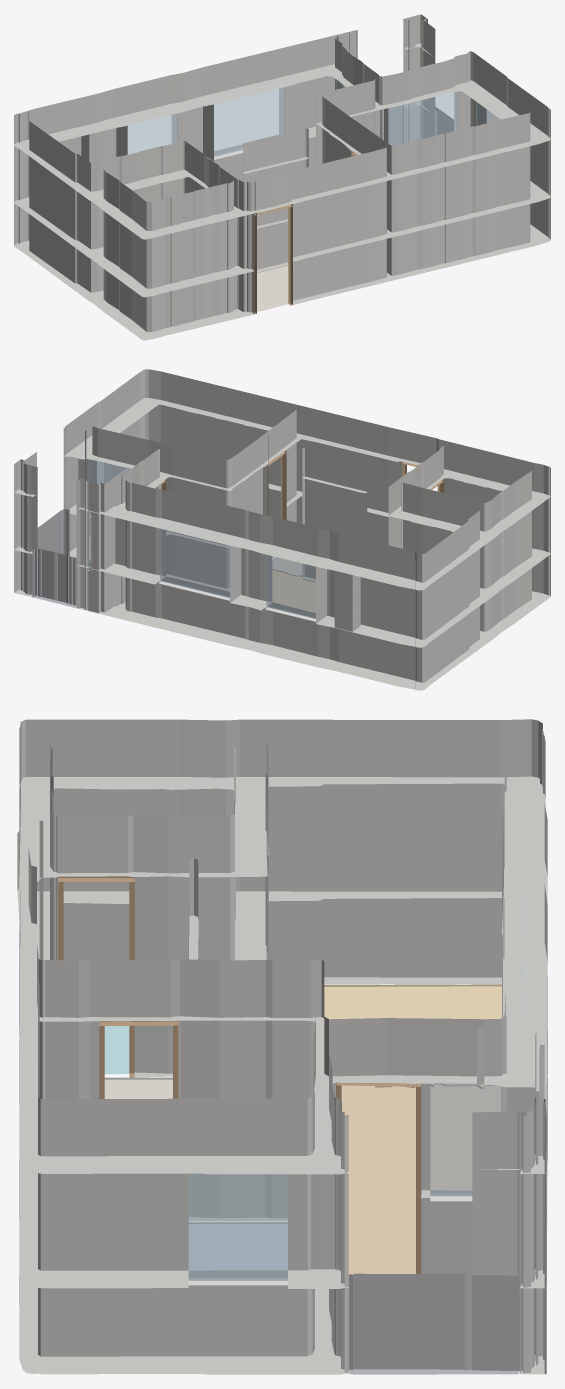
The picture shows the model from 3 angles, top to bottom: view 1: azimuth 30°, elevation 25°; view 2: azimuth 150°, elevation 25°; view 3: azimuth 270°, elevation 25°; orthographic projection. The views are drawn at different scales.
Parts seen in each view (by area): view 1: walls, window_5, window_9, window_4, floor_5_Entry, railings, door_3; view 2: walls, window_5, railings, window_4, floor_2_Living_Room, window_9, door_1; view 3: walls, floor_2_Living_Room, railings, window_10, floor_1_Kitchen, window_8, floor_3_Bed_Room, door_2, floor_5_Entry, door_0, door_1, floor_4_Bath (+1 smaller).
Boxes of the visible parts, x1,y1,x2,y2 form: walls: (14,14,550,340); window_5: (209,82,284,156); window_9: (386,89,457,145); window_4: (127,109,177,154); floor_5_Entry: (257,265,288,311); railings: (388,105,453,145); door_3: (254,204,292,313); walls: (14,369,550,690); window_5: (160,523,230,597); railings: (32,509,90,608); window_4: (266,554,315,618); floor_2_Living_Room: (174,569,315,612); window_9: (88,459,160,514); door_1: (267,450,286,519); walls: (17,719,547,1374); floor_2_Living_Room: (341,1083,500,1274); railings: (348,1273,521,1374); window_10: (188,1173,287,1279); floor_1_Kitchen: (324,984,501,1086); window_8: (430,1080,500,1195); floor_3_Bed_Room: (189,1222,287,1270); door_2: (58,876,134,1077); floor_5_Entry: (104,1077,172,1098); door_0: (336,1082,420,1273); door_1: (99,1020,178,1098); floor_4_Bath: (104,1026,129,1074).
Bounding box in the file's own units: 8.94 × 2.72 × 5.04.
